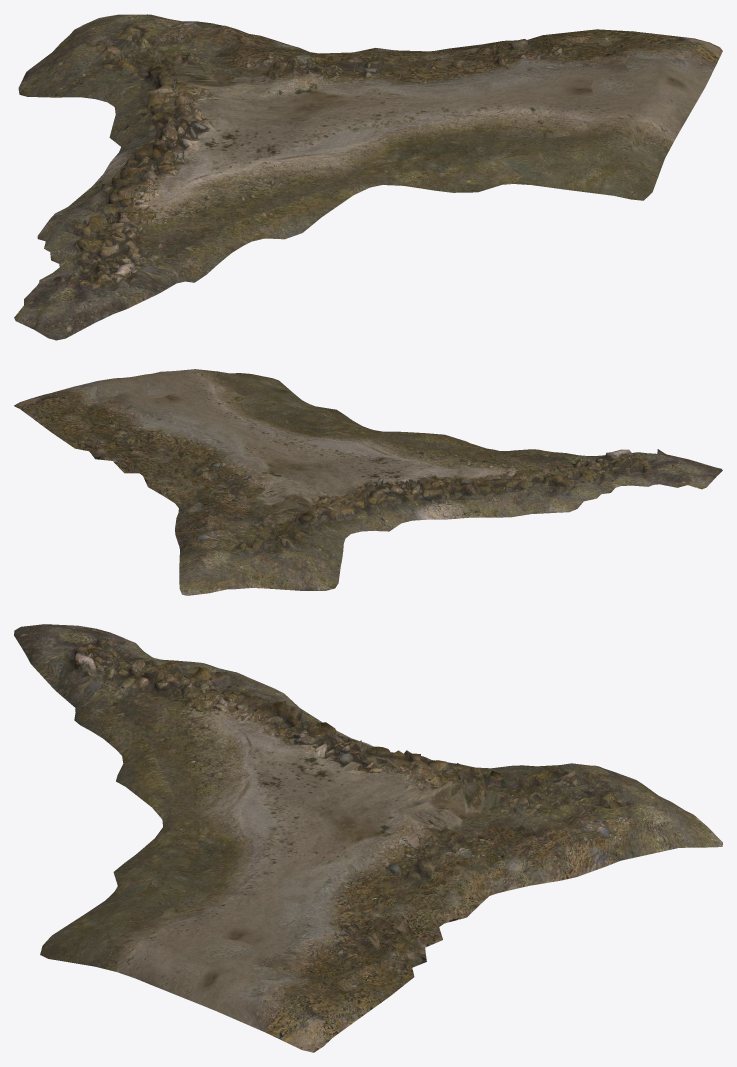
Rendered from coast_rocks_01.glb.
3 renders of one model, top to bottom at view 1: azimuth 30°, elevation 25°; view 2: azimuth 150°, elevation 25°; view 3: azimuth 270°, elevation 25°, orthographic. The views are drawn at different scales.
Parts seen in each view (by area): view 1: coast_rocks_01; view 2: coast_rocks_01; view 3: coast_rocks_01.
Part boxes in pixels (x1,y1,x2,y2): coast_rocks_01: [14, 14, 722, 340]; coast_rocks_01: [14, 369, 722, 595]; coast_rocks_01: [14, 624, 722, 1052].
Size of the model in its own units: 59.51 by 3.24 by 42.52.
1 material, 1 textured.
